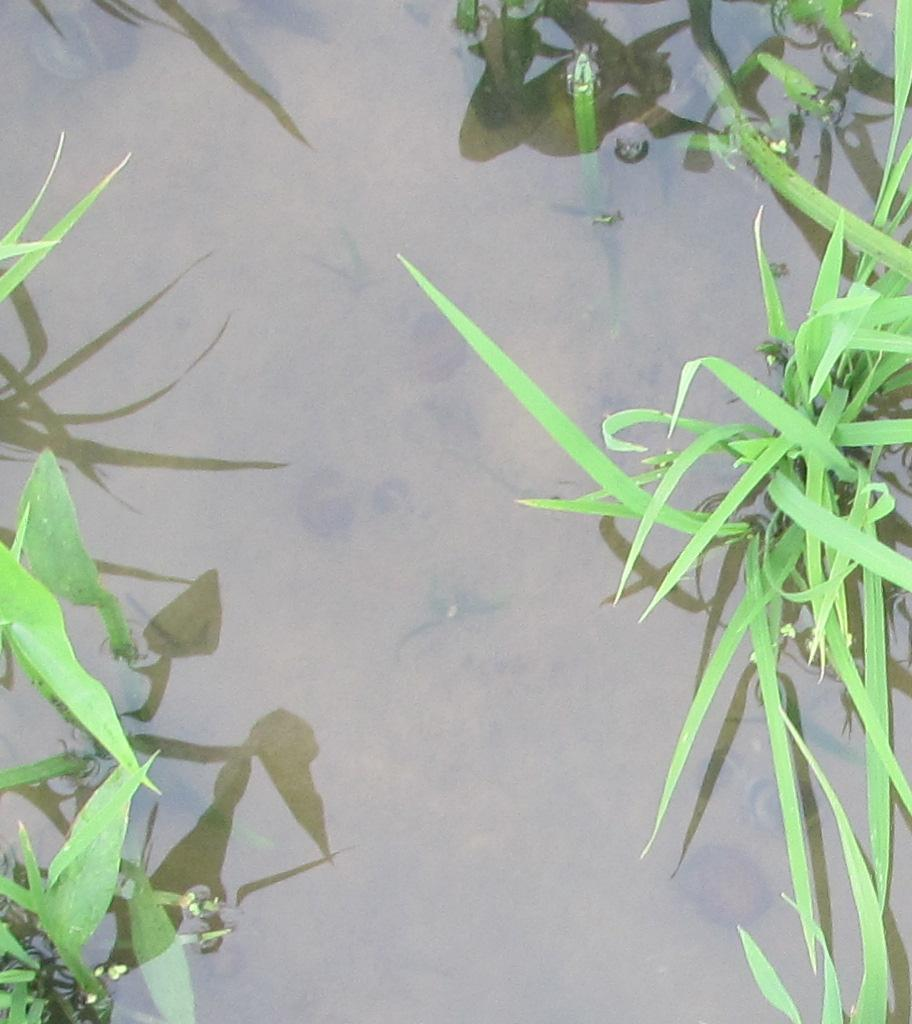Weed: (1, 450, 158, 986), (736, 2, 874, 160)
